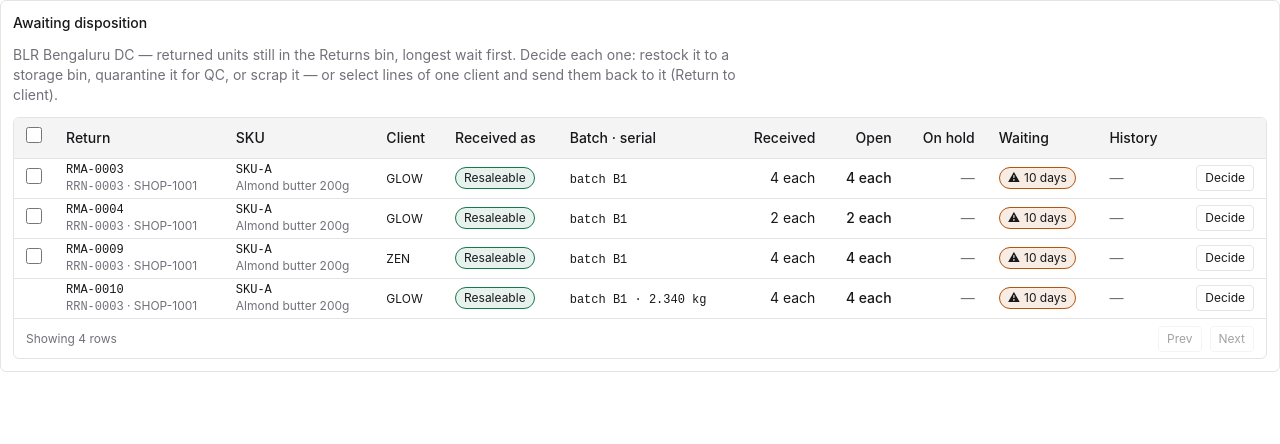
Scenario: the queue selection (A12) › one client only: another client’s line and a returned case cannot join; the action counts the selection
Click the checkbox named "Select SKU-A on RMA-0003". click: (34, 176)
box: x1=26 y1=168 x2=42 y2=184
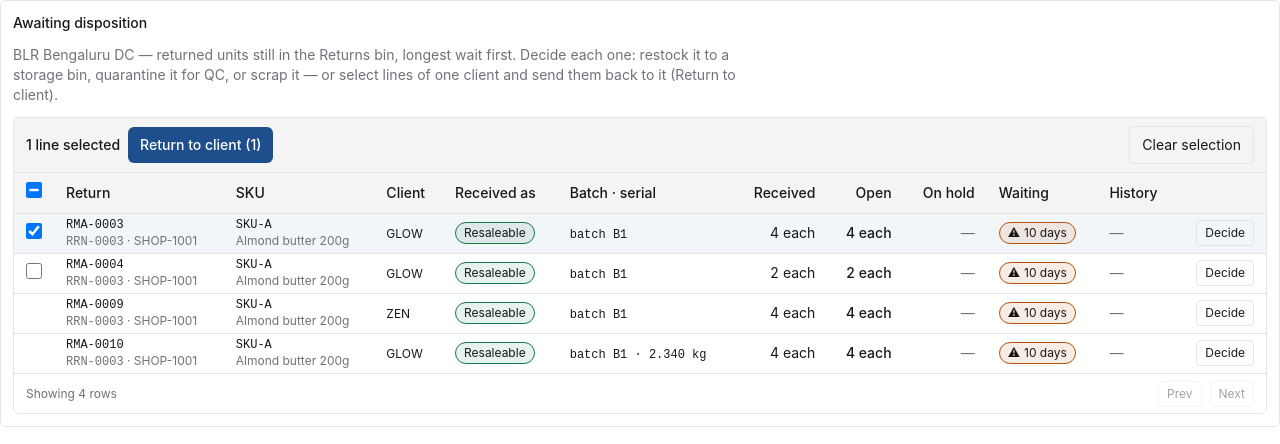
Click the checkbox named "Select SKU-A on RMA-0004". click: (34, 270)
box: x1=26 y1=262 x2=42 y2=278
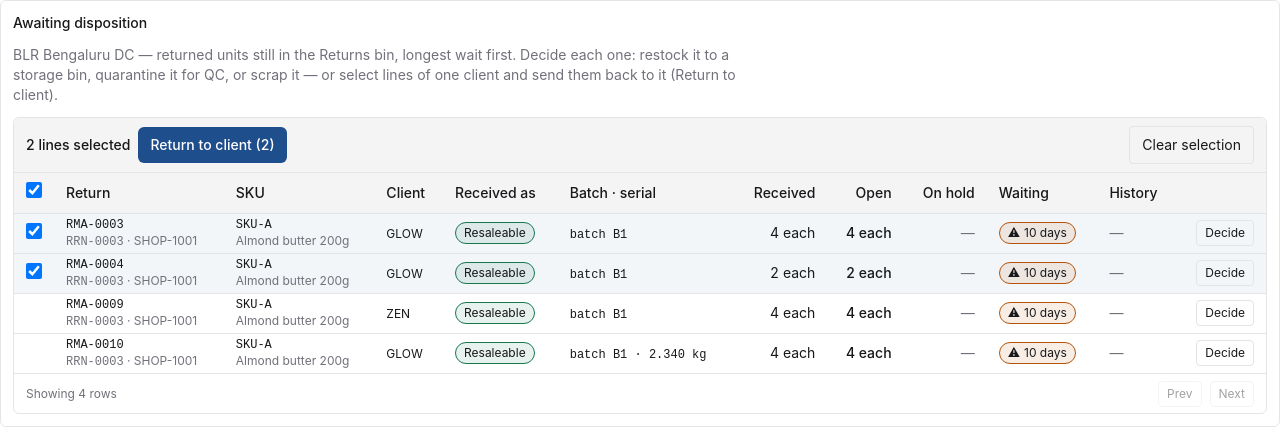
Result: the button "Return to client (2)" is shown at x1=138 y1=127 x2=287 y2=163
